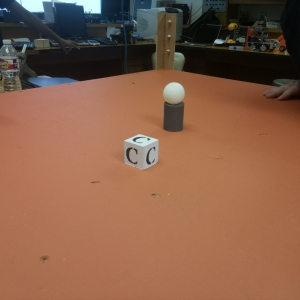blockC: (121, 135, 159, 168)
corner: (156, 11, 176, 69)
obstacle: (163, 82, 184, 128)
